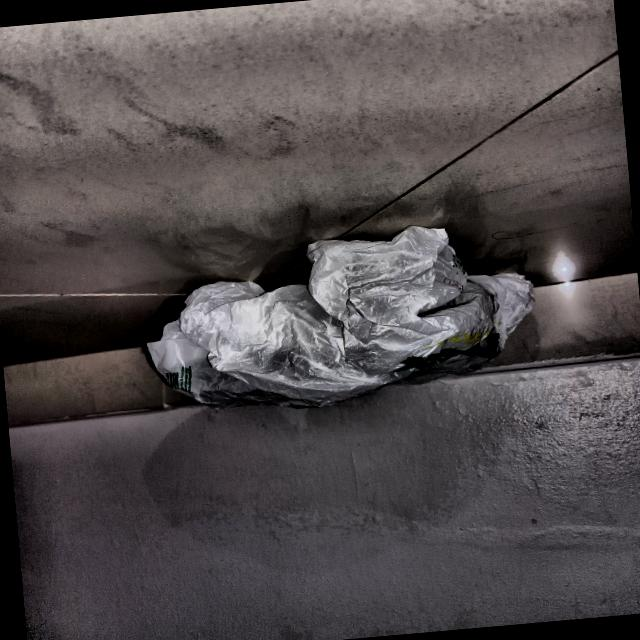plastic bag: (134, 217, 540, 422)
